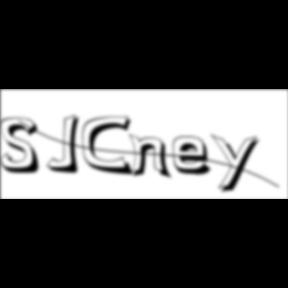C: (82, 115, 138, 178)
J: (46, 114, 86, 176)
S: (0, 117, 46, 176)
e: (173, 135, 219, 178)
n: (128, 132, 176, 181)
y: (211, 132, 265, 196)
